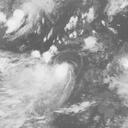cyclone: (22, 60, 75, 101)
